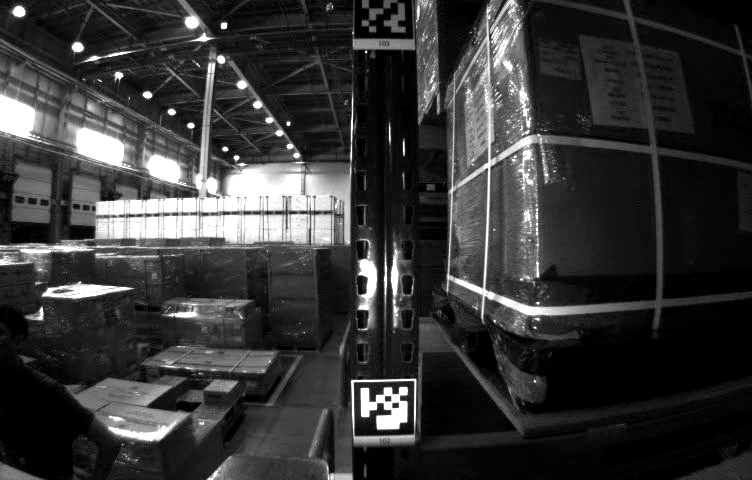True Barcode: (540, 40, 582, 79)
